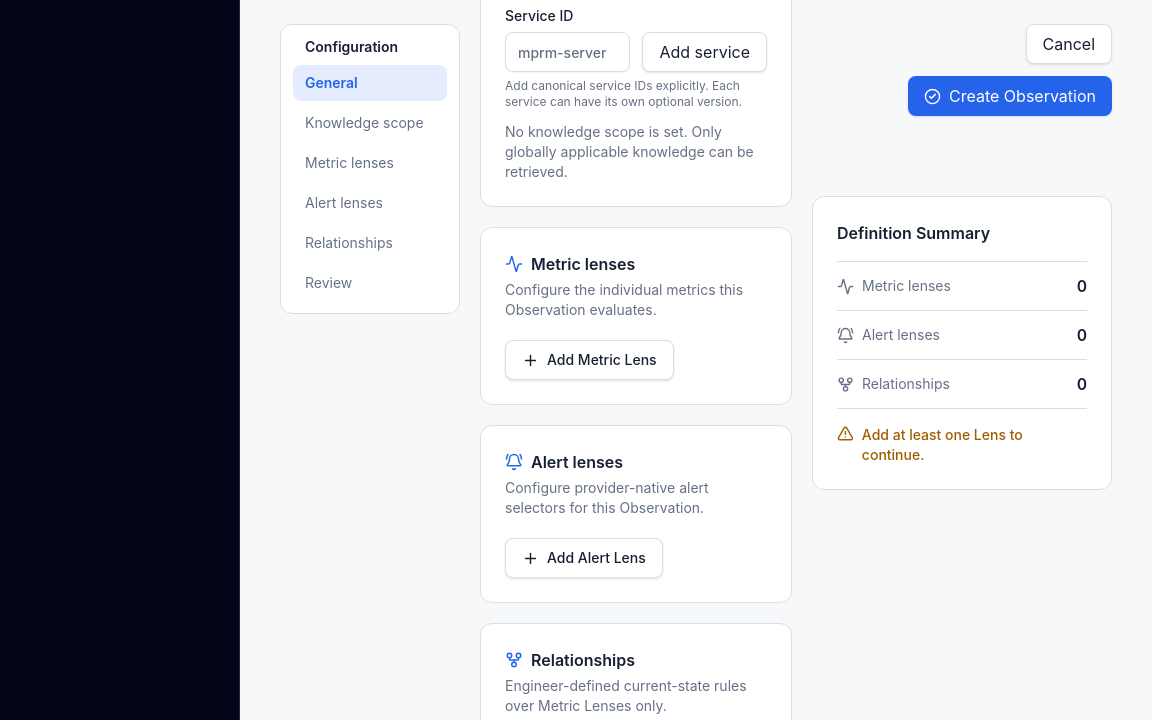
Test: Metric Lens editor › shows pending, failure/retry, and empty states while Apply is unavailable
The image size is (1152, 720).
(page scrolled)
Click the link "Add Metric Lens" at (589, 360), box x1=505 y1=340 x2=674 y2=380
(page scrolled)
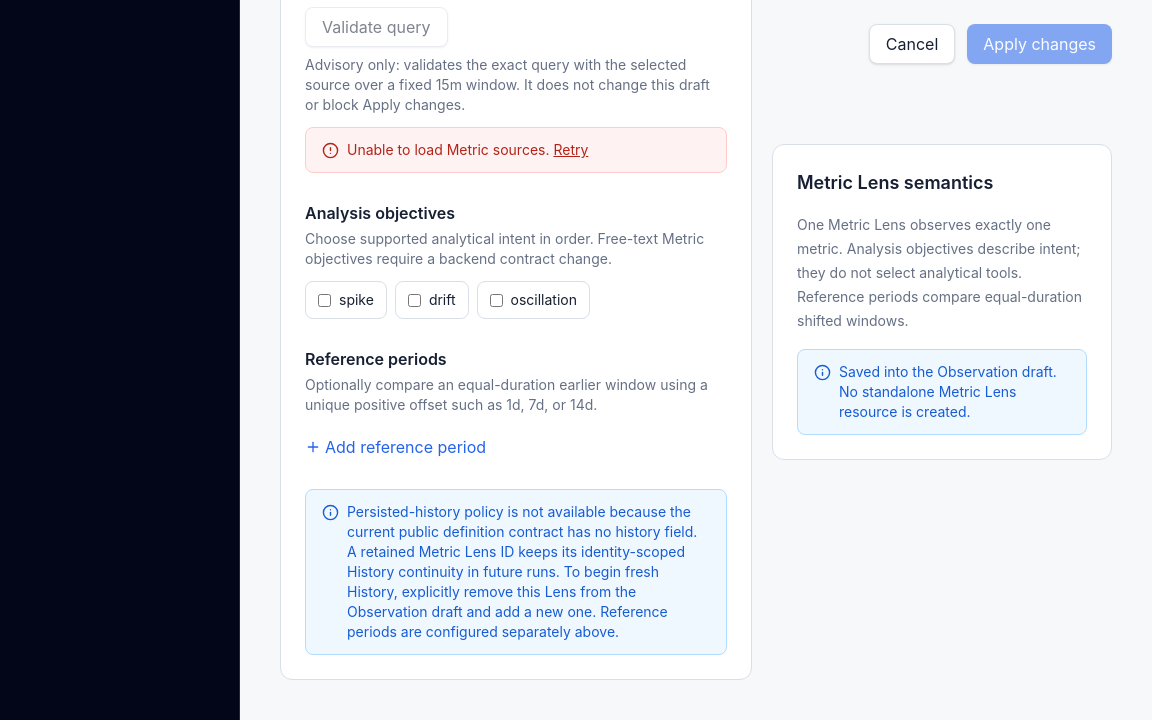
Expected: the button "Apply changes" is disabled, x1=967 y1=24 x2=1112 y2=64
Expected: the text "Unable to load Metric sources. Retry" is shown, x1=347 y1=140 x2=588 y2=160
Click the button "Retry" at (571, 150), box x1=553 y1=140 x2=588 y2=160
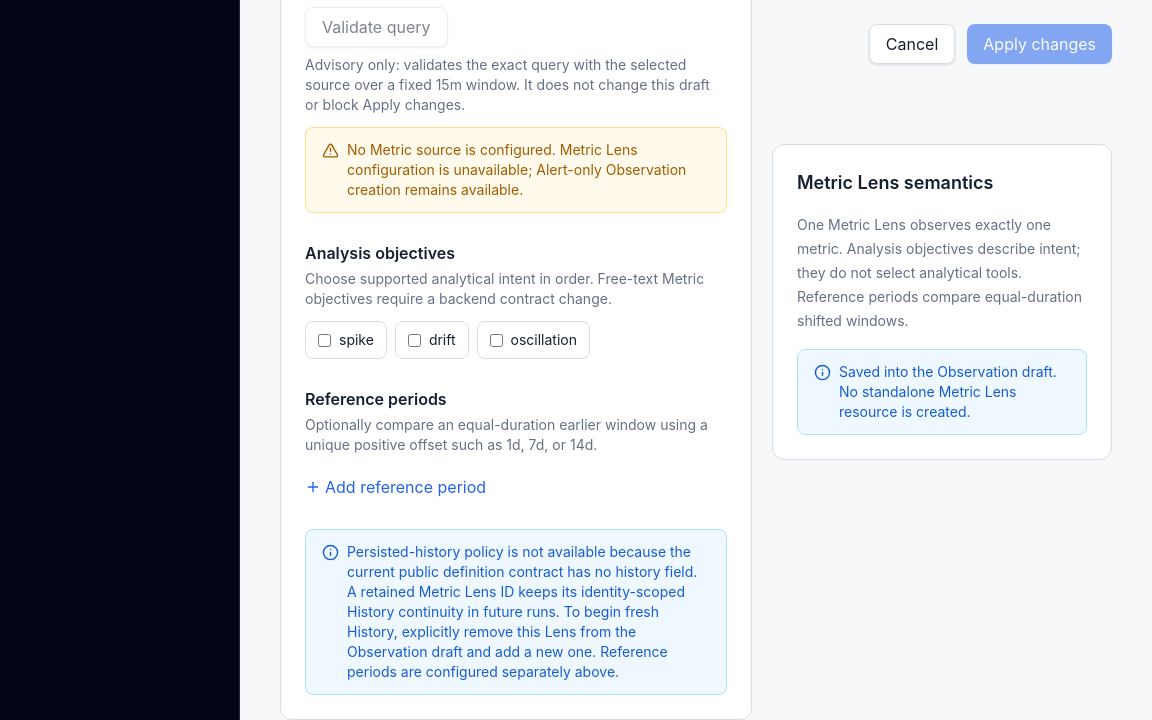
Expected: the button "Apply changes" is disabled, x1=967 y1=24 x2=1112 y2=64
Expected: the text "No Metric source is configured" is shown, x1=347 y1=141 x2=686 y2=198
